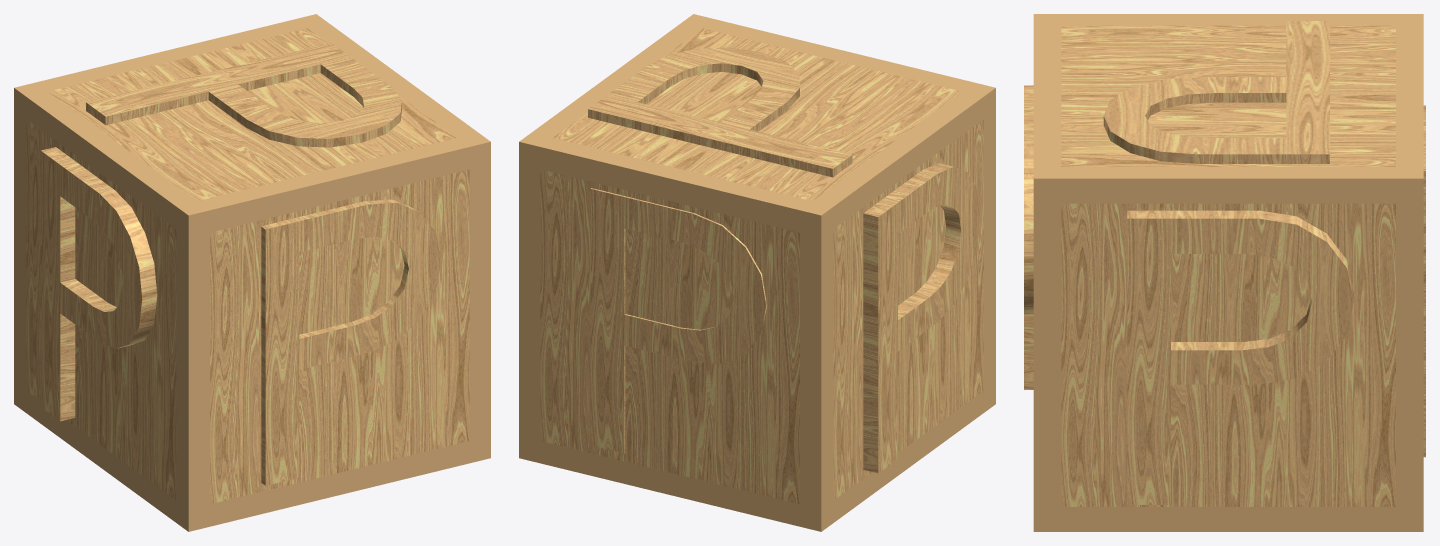
Rendered from block-p.fbx.
3 views of the same model, side by side, from view 1: azimuth 30°, elevation 25°; view 2: azimuth 150°, elevation 25°; view 3: azimuth 270°, elevation 25° (orthographic). The views are drawn at different scales.
Visible parts, largest first — view 1: Box, FRONT, LEFT, TOP; view 2: Box, BACK, LEFT, TOP; view 3: Box, RIGHT, TOP, FRONT, BACK.
Part boxes in pixels (x1,y1,x2,y2): Box: (14, 14, 490, 531); FRONT: (261, 199, 440, 485); LEFT: (40, 147, 157, 421); TOP: (86, 43, 401, 147); Box: (519, 14, 995, 531); BACK: (590, 188, 767, 453); LEFT: (863, 163, 979, 473); TOP: (588, 47, 852, 177); Box: (1033, 14, 1423, 531); RIGHT: (1127, 210, 1353, 504); TOP: (1103, 21, 1329, 163); FRONT: (1024, 85, 1033, 389); BACK: (1423, 105, 1425, 457).
Size of the model in its own units: 1.1 by 1.04 by 1.03.
2 materials, 2 textured.
